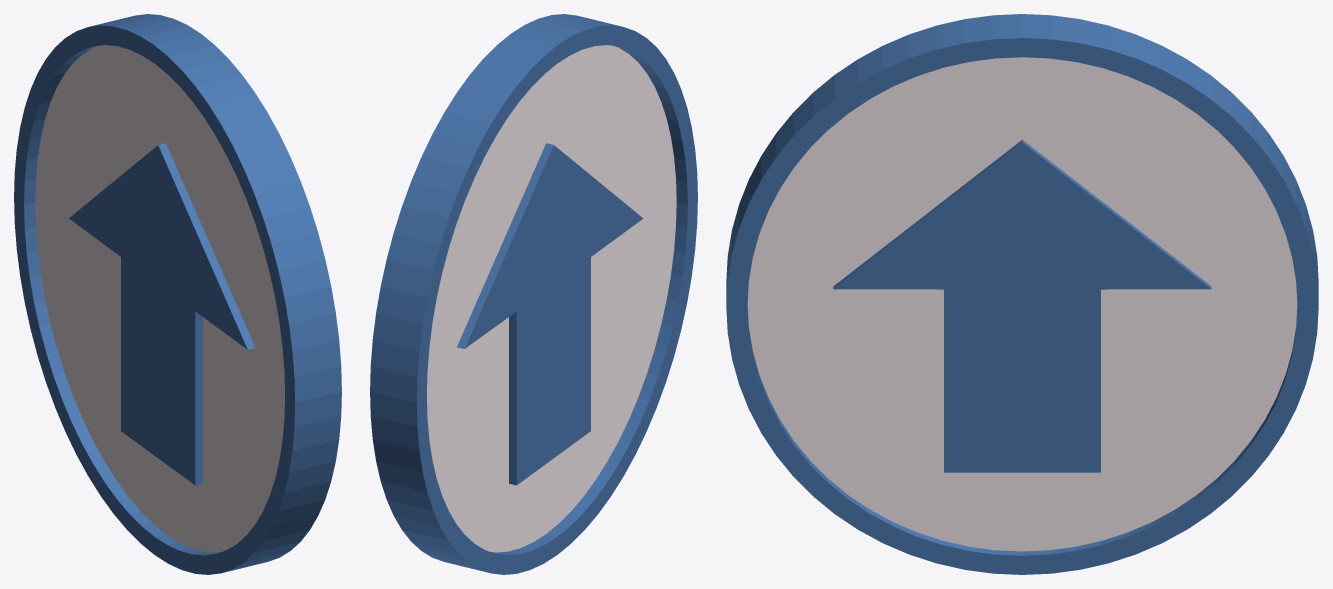
The model's file is rounded-arrow.glb.
The picture shows the model from 3 angles, left to right: view 1: azimuth 30°, elevation 25°; view 2: azimuth 150°, elevation 25°; view 3: azimuth 270°, elevation 25°; orthographic projection. The views are drawn at different scales.
Visible parts, largest first — view 1: Cylinder.001; view 2: Cylinder.001; view 3: Cylinder.001.
Part boxes in pixels (x1,y1,x2,y2): Cylinder.001: (14,14,341,574); Cylinder.001: (370,14,697,574); Cylinder.001: (726,14,1318,574).
Size of the model in its own units: 0.2772 by 2.88 by 2.88.
